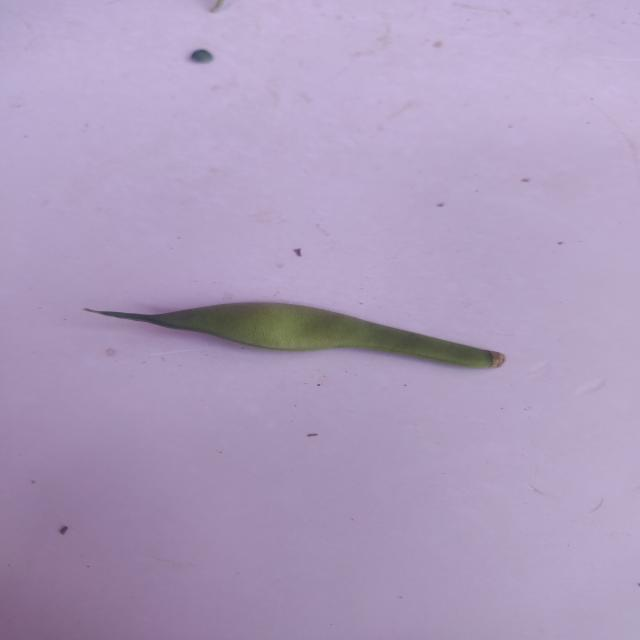Beans: (66, 278, 524, 390)
